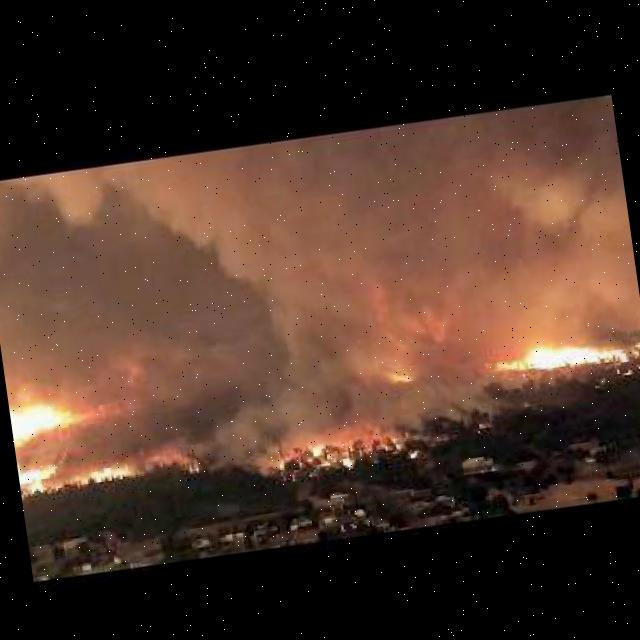fire: (492, 331, 628, 377), (5, 375, 84, 450), (17, 457, 66, 503), (86, 458, 134, 482)
